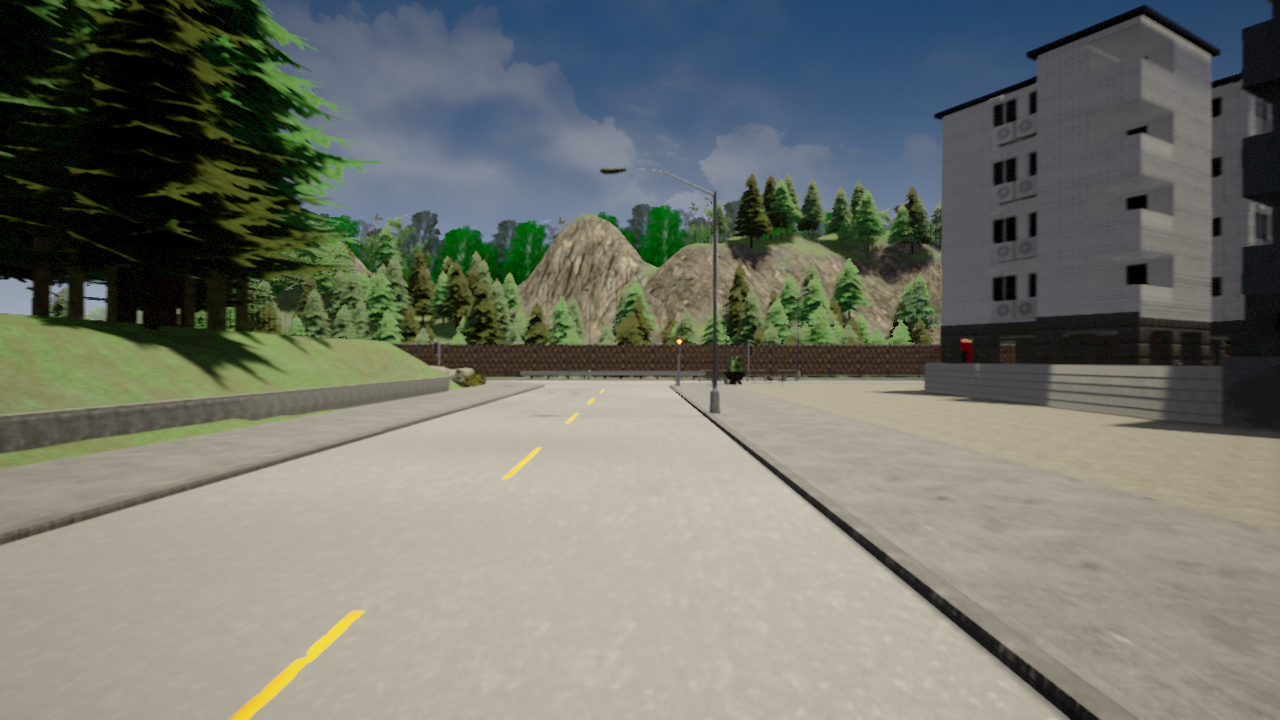red: (676, 337, 682, 354)
